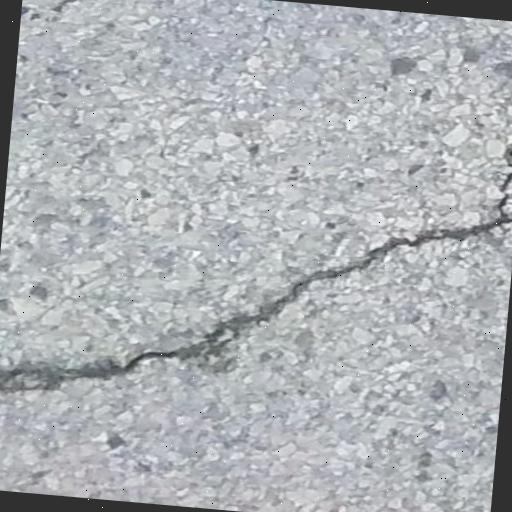spalling: (0, 211, 512, 401)
